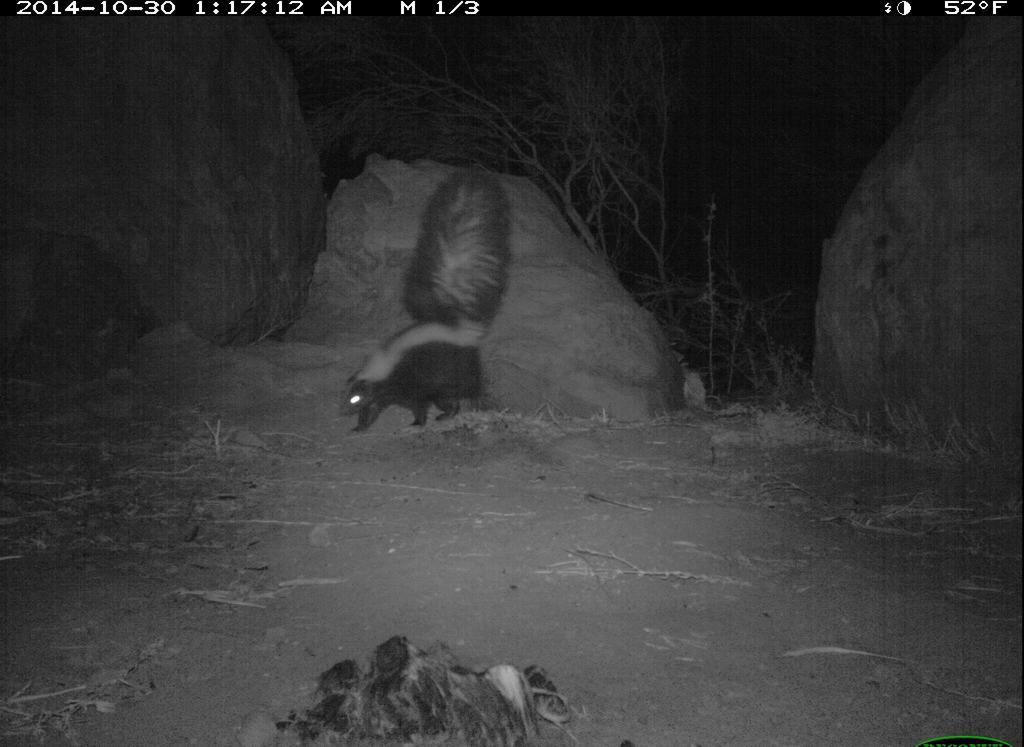skunk: (340, 159, 519, 447)
